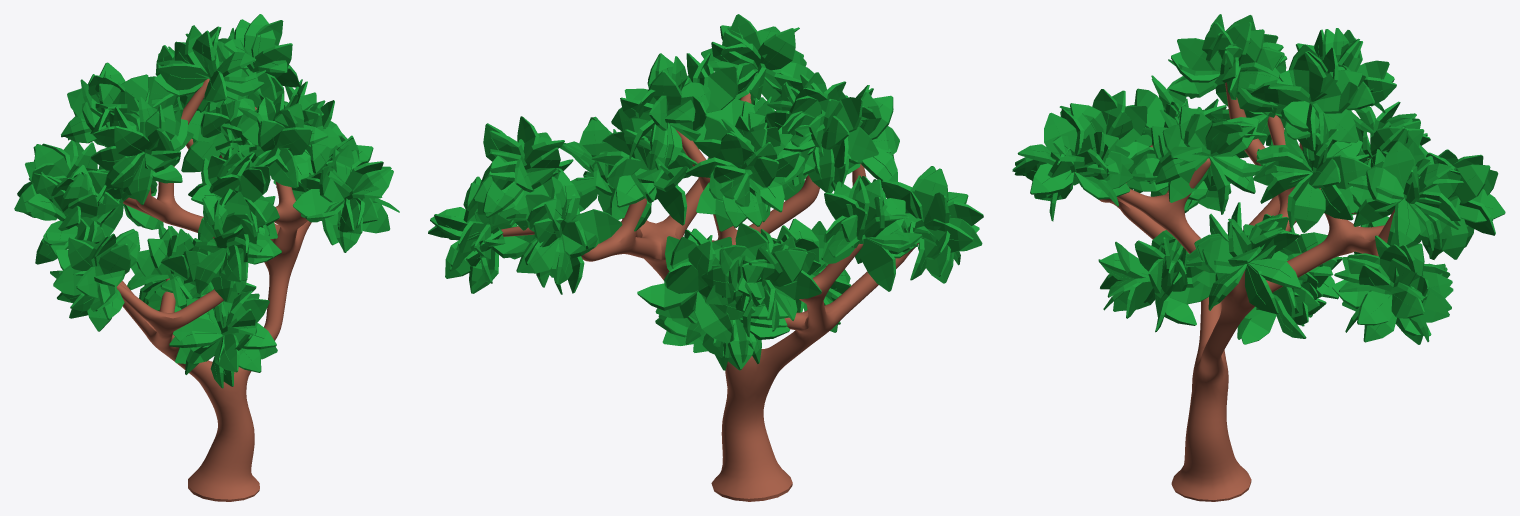
The model's file is Arbol_2.glb.
3 views of the same model, side by side, from view 1: azimuth 30°, elevation 25°; view 2: azimuth 150°, elevation 25°; view 3: azimuth 270°, elevation 25° (orthographic). The views are drawn at different scales.
Visible parts, largest first — view 1: Plane; view 2: Plane; view 3: Plane.
Boxes of the visible parts, x1,y1,x2,y2 form: Plane: (14, 14, 399, 501); Plane: (428, 14, 983, 501); Plane: (1012, 14, 1505, 501).
Size of the model in its own units: 8.31 by 8.67 by 8.47.
